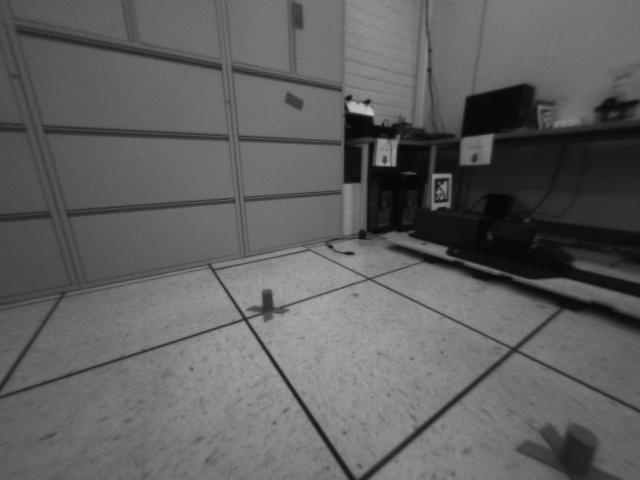X: (247, 289, 291, 322)
